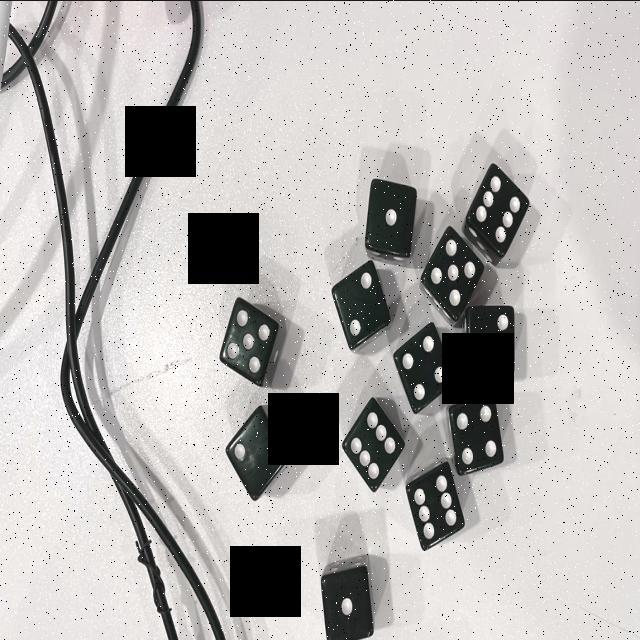DICE1: (362, 170, 420, 258), (318, 566, 376, 640)
DICE2: (228, 408, 278, 492), (336, 267, 384, 345), (466, 305, 514, 377)
DICE4: (400, 324, 452, 408), (448, 400, 498, 470)
DICE5: (421, 215, 476, 318), (223, 300, 269, 384)
DICE6: (467, 156, 527, 256), (346, 395, 396, 502), (404, 460, 459, 550)
